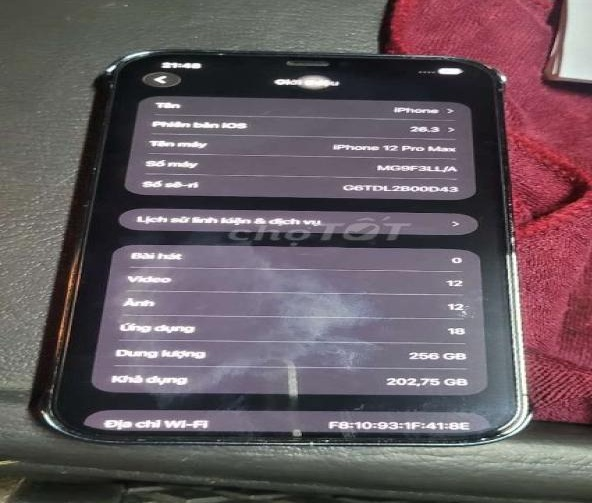physical_damage: (217, 314, 365, 448)
scratch: (42, 416, 513, 458)
